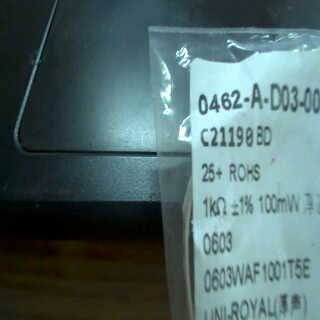1kR: (201, 191, 230, 222)
